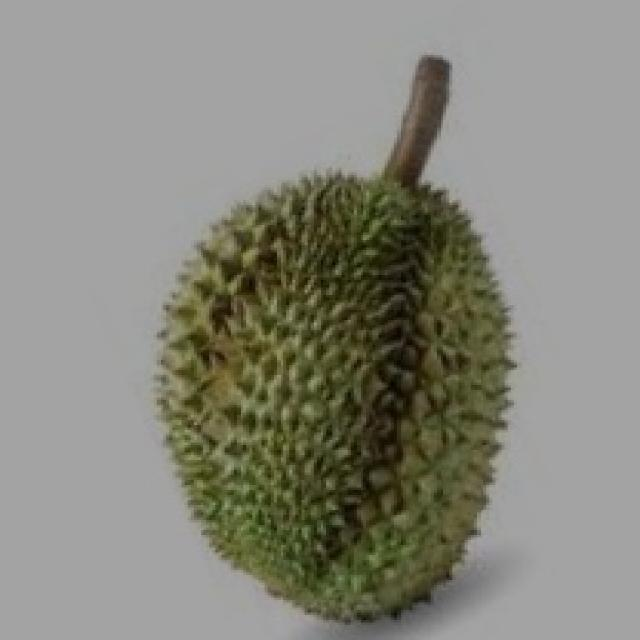fruit: (104, 233, 456, 635)
